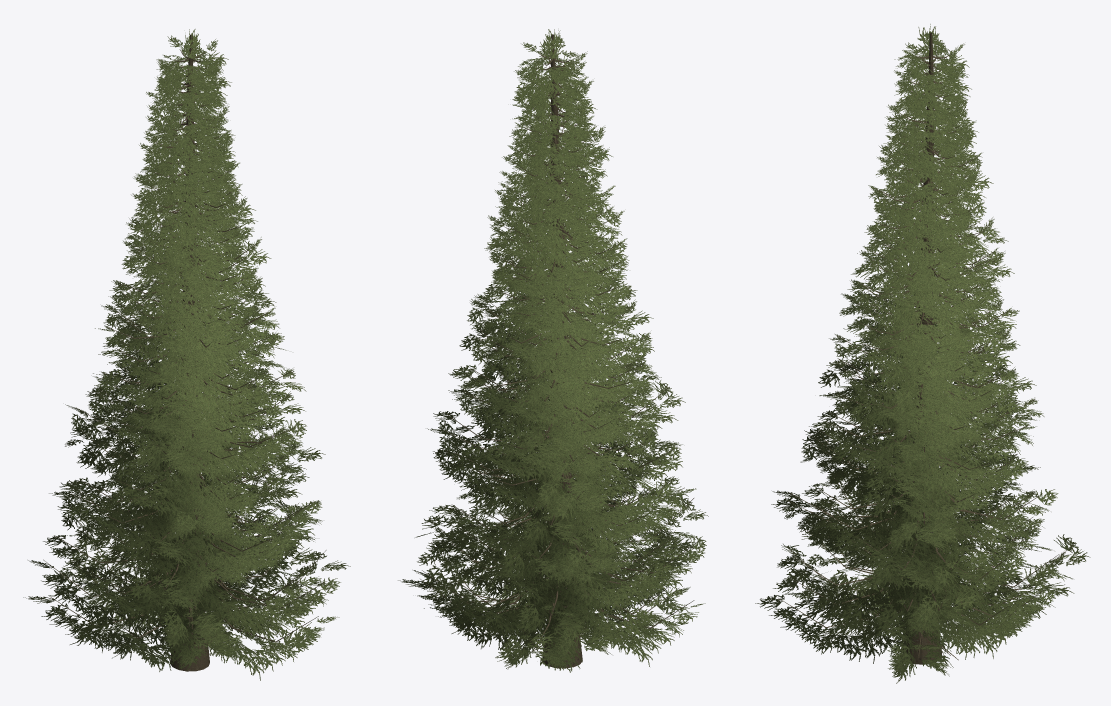
File: SM_Spruce_03.gltf
3 renders of one model, left to right at view 1: azimuth 30°, elevation 25°; view 2: azimuth 150°, elevation 25°; view 3: azimuth 270°, elevation 25°, orthographic.
Visible parts, largest first — view 1: SM_Spruce_03; view 2: SM_Spruce_03; view 3: SM_Spruce_03.
Boxes of the visible parts, box(x1,y1,x2,y2) form: SM_Spruce_03: box(23, 29, 350, 680); SM_Spruce_03: box(398, 29, 708, 672); SM_Spruce_03: box(755, 24, 1090, 683).
Size of the model in its own units: 8.27 by 16.52 by 8.18.
Materials: 2 (2 with a texture image).
